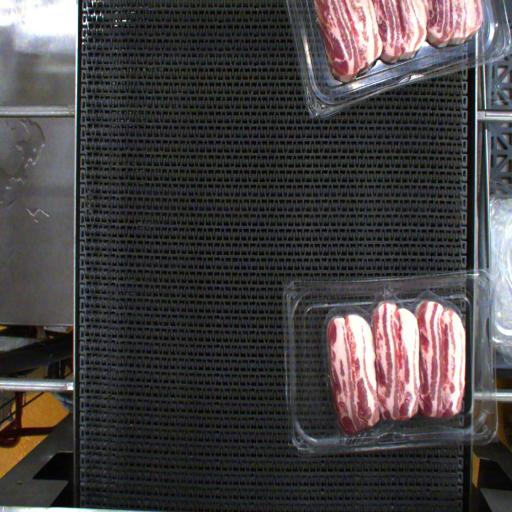unsealed: (310, 283, 477, 353)
